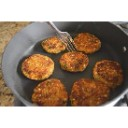cutlet: (33, 77, 66, 107), (73, 78, 108, 106), (22, 56, 54, 80), (94, 59, 124, 84), (62, 51, 88, 71), (75, 33, 101, 52), (41, 39, 69, 52)
